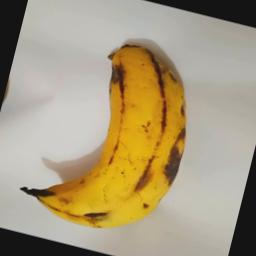Banana Unripe: (13, 22, 209, 247)
